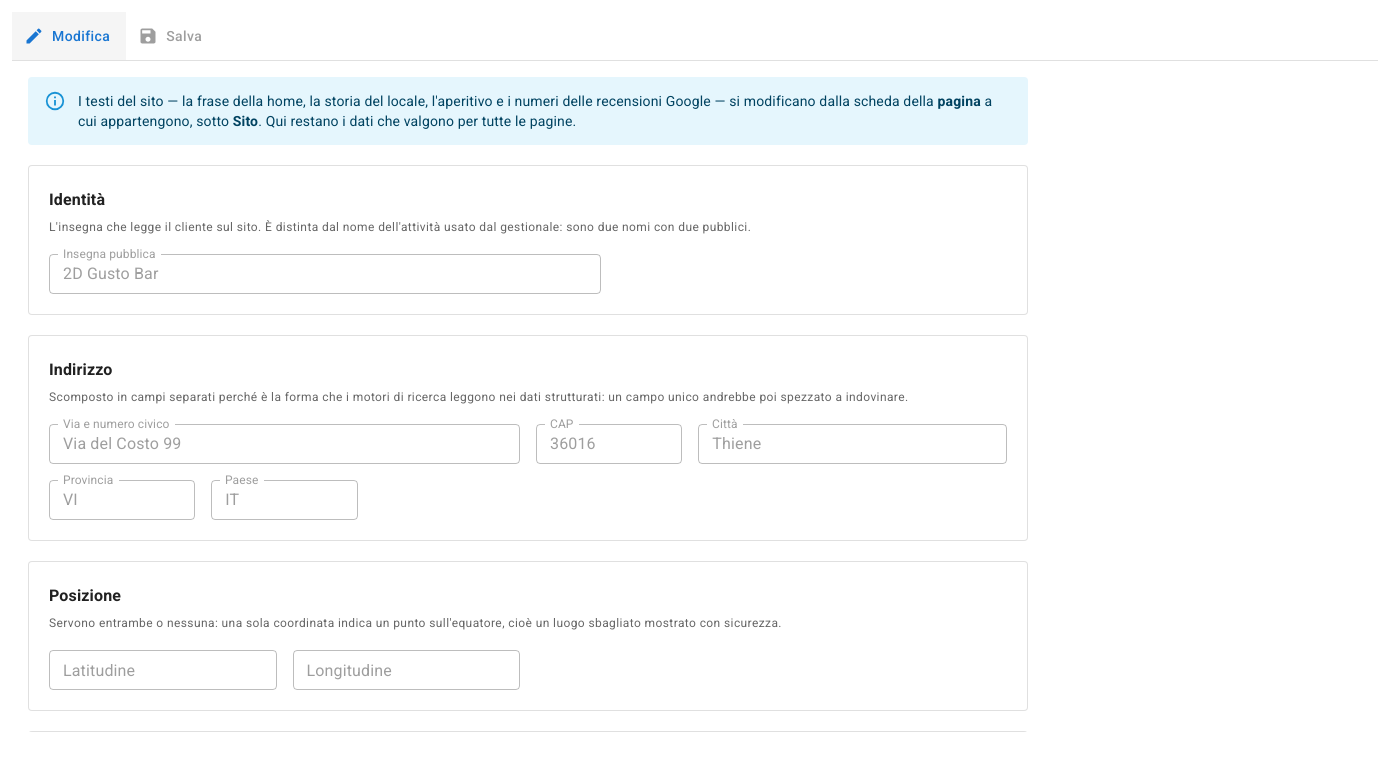
Test case: ImpostazioniVetrinaPage — pagina › non invia alcuna mutation quando le coordinate sono incoerenti
Note: Il modulo nasce bloccato, come le altre pagine di dettaglio: prima si sblocca.
Step 1. Click the button "Modifica" → click(69, 36), box [12,12,126,60]
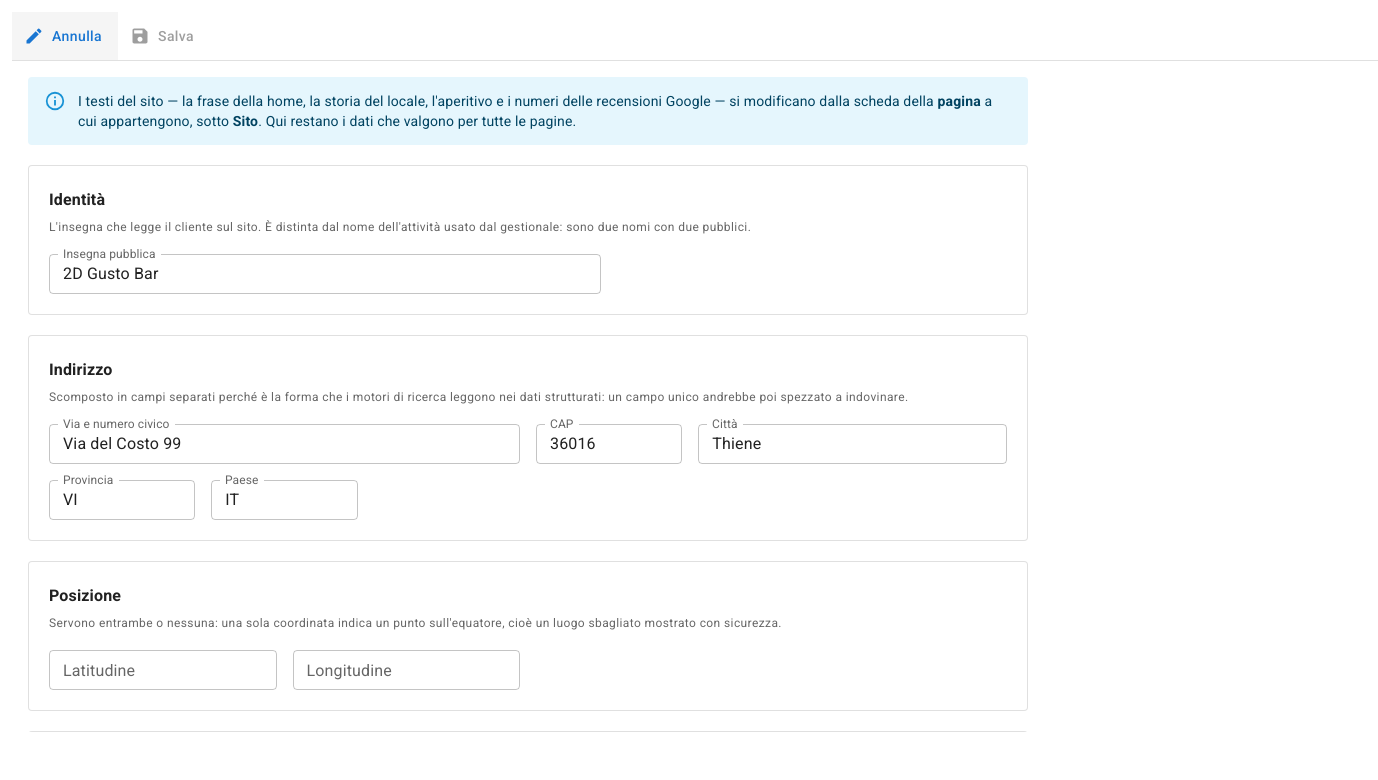
Step 2. Type "45.7075" into the field labelled "Latitudine" → (163, 670), box [49,650,276,690]
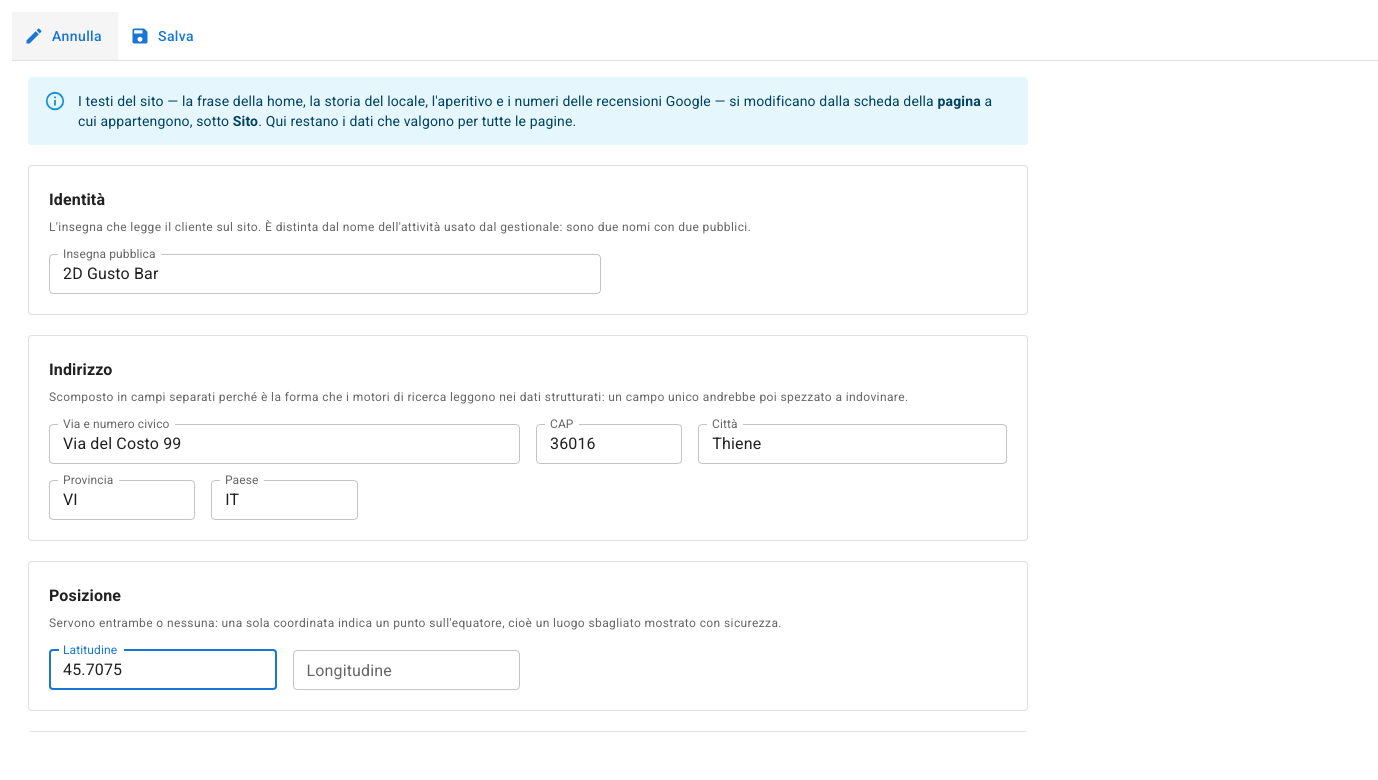
Step 3. Click the button "Salva" → click(164, 36), box [118,12,210,60]
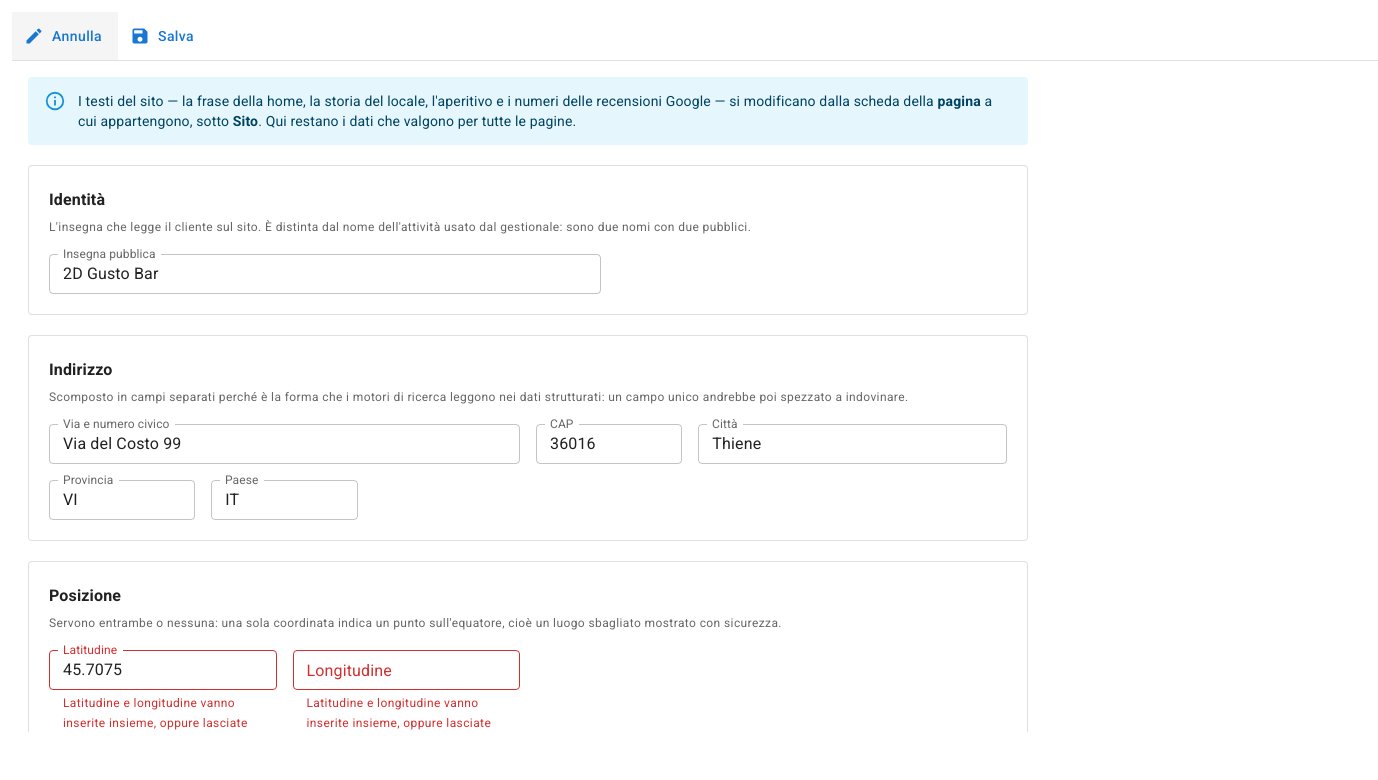
Now the 1st text "vanno inserite insieme" is shown, box [63,696,248,732]
